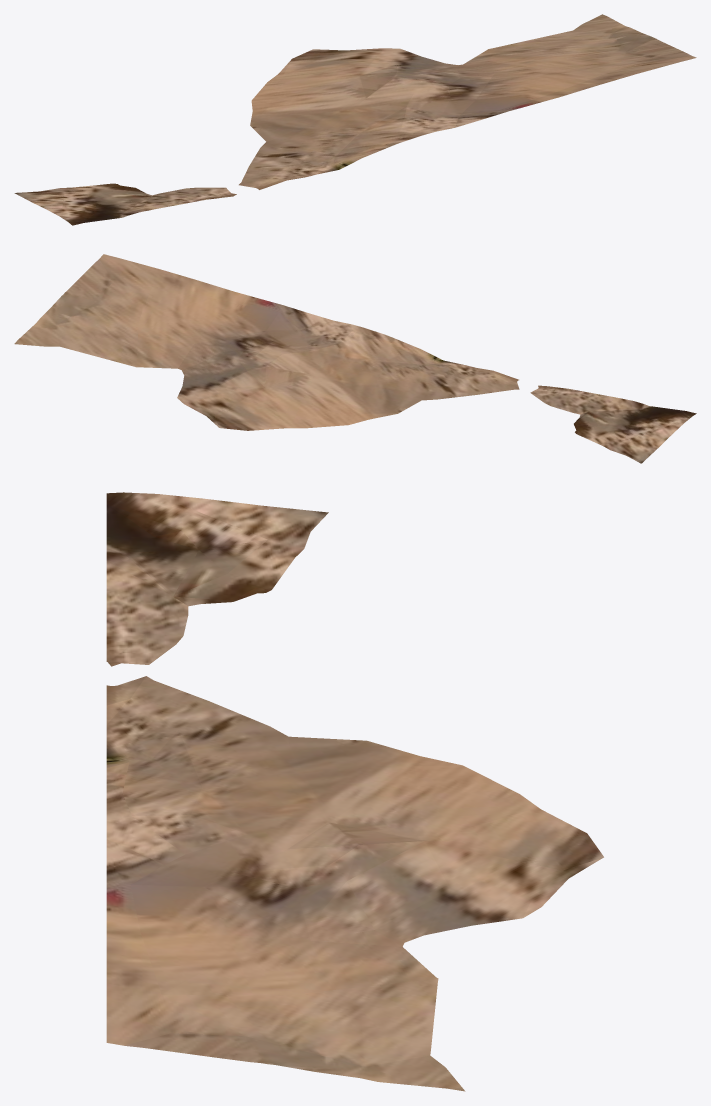
3 renders of one model, top to bottom at view 1: azimuth 30°, elevation 25°; view 2: azimuth 150°, elevation 25°; view 3: azimuth 270°, elevation 25°, orthographic. The views are drawn at different scales.
Bounding box in the file's own units: 4.18 × 0.1635 × 1.52.
Materials: 1 (1 with a texture image).
